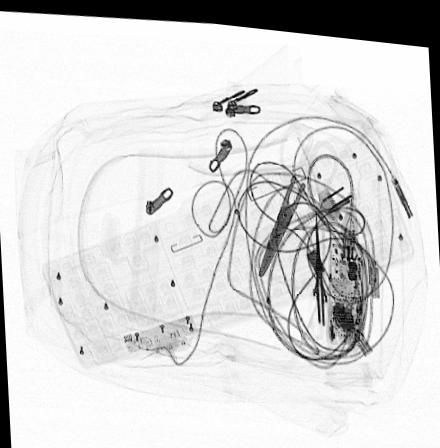Scissors: (257, 114, 340, 274)
